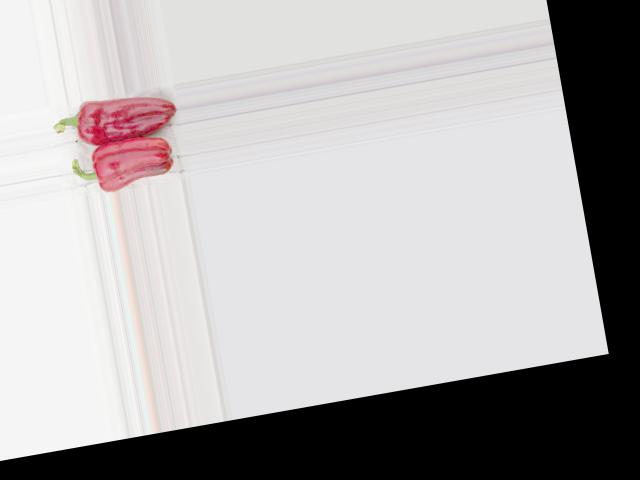bell_pepper: (46, 86, 180, 154)
